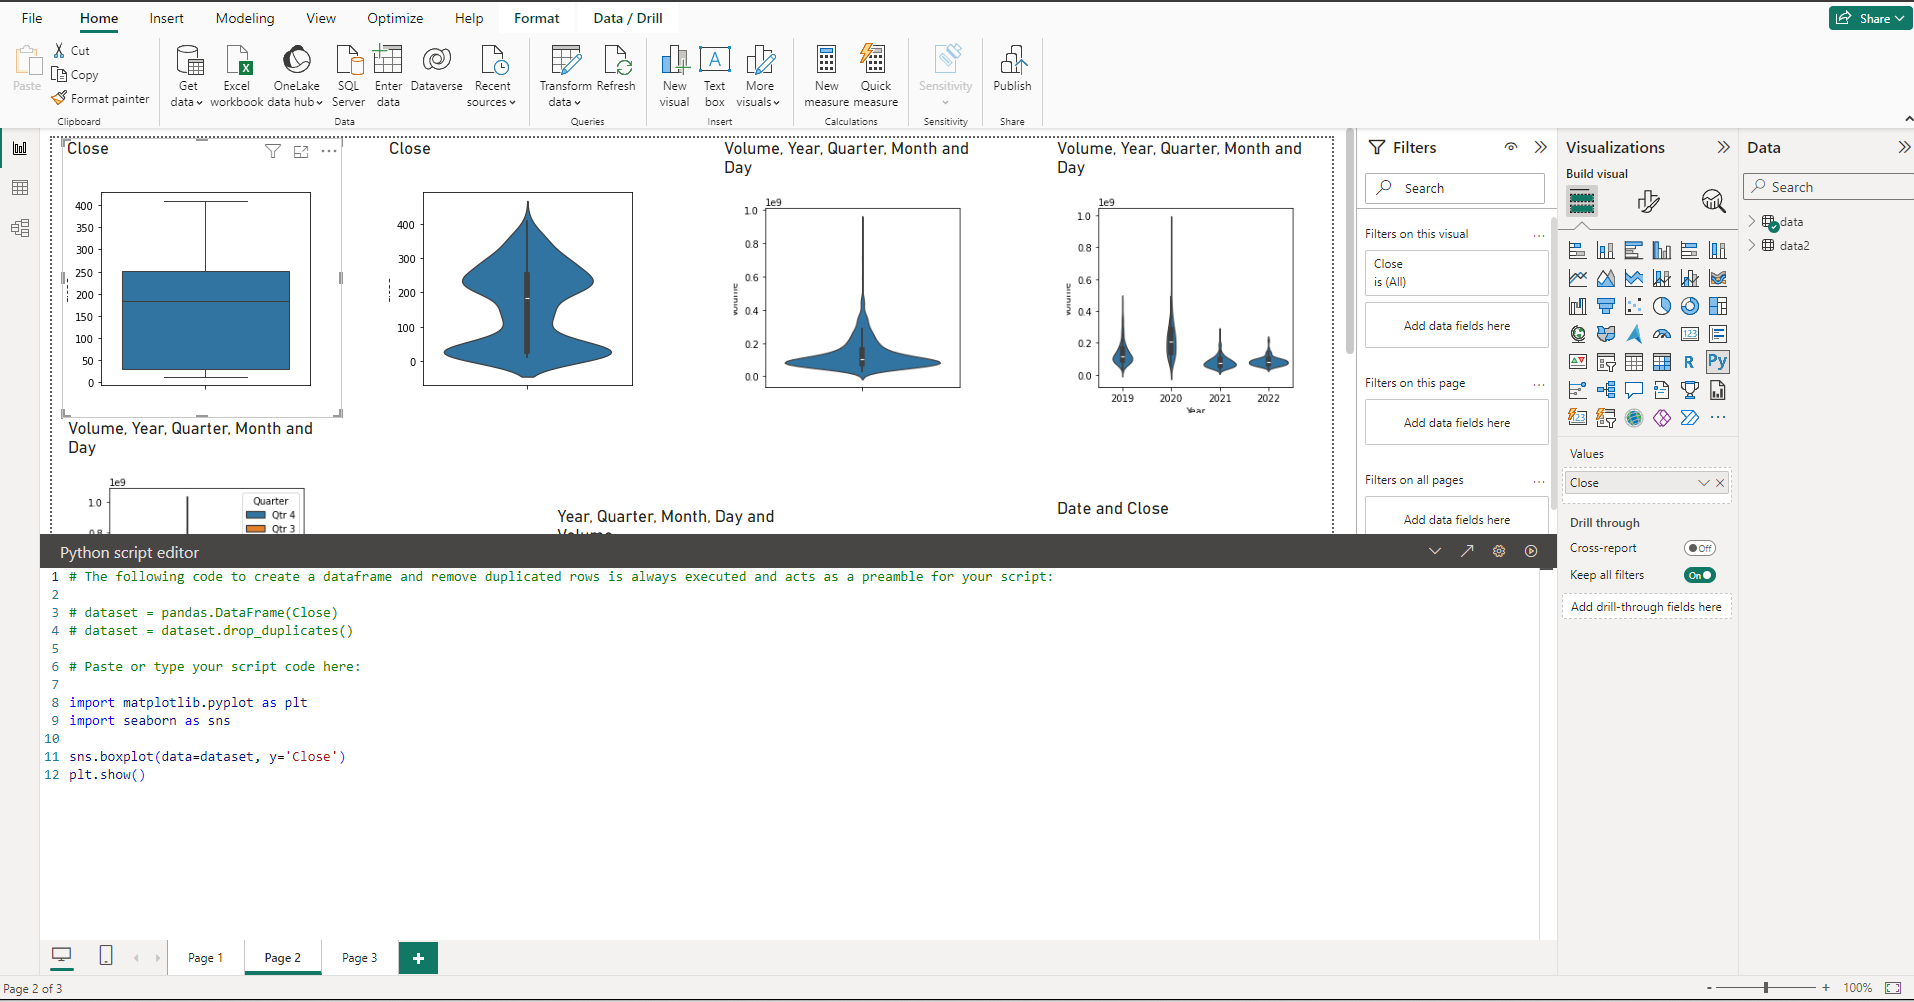

Layout of this report page (visuals, bound fields, positions):
{"tool":"powerbi","page":{"name":"Page 2","canvas":[1280,720],"ordinal":1},"visuals":[{"type":"pythonVisual","fields":{"Values":["data.Close"]},"box":[10,0,280,280],"z":0},{"type":"pythonVisual","fields":{"Values":["data.Close"]},"box":[332,0,280,280],"z":1000},{"type":"pythonVisual","fields":{"Values":["data.Volume","data.Date.Variation.Date Hierarchy.Year","data.Date.Variation.Date Hierarchy.Quarter","data.Date.Variation.Date Hierarchy.Month","data.Date.Variation.Date Hierarchy.Day"]},"box":[667,0,280,280],"z":2000},{"type":"pythonVisual","fields":{"Values":["data.Volume","data.Date.Variation.Date Hierarchy.Year","data.Date.Variation.Date Hierarchy.Quarter","data.Date.Variation.Date Hierarchy.Month","data.Date.Variation.Date Hierarchy.Day"]},"box":[1000,0,280,280],"z":3000},{"type":"pythonVisual","fields":{"Values":["data.Volume","data.Date.Variation.Date Hierarchy.Year","data.Date.Variation.Date Hierarchy.Quarter","data.Date.Variation.Date Hierarchy.Month","data.Date.Variation.Date Hierarchy.Day"]},"box":[10.5,280,280,280],"z":4000},{"type":"pythonVisual","fields":{"Values":["data.Date.Variation.Date Hierarchy.Year","data.Date.Variation.Date Hierarchy.Quarter","data.Date.Variation.Date Hierarchy.Month","data.Date.Variation.Date Hierarchy.Day","data.Volume"]},"box":[500,368,280,149],"z":5000},{"type":"pythonVisual","fields":{"Values":["data.Date","data.Close"]},"box":[1000,360,280,149],"z":6000}]}

Visuals, with their boxes on the page's 1280x720 design canvas (x1, y1, x2, y2). These are canvas units, not pixel positions in the 1914x1002 screenshot, which may show the page scaled, cropped or inside an application window:
pythonVisual - data.Close: <box>10,0,290,280</box>
pythonVisual - data.Close: <box>332,0,612,280</box>
pythonVisual - data.Volume x data.Date.Variation.Date Hierarchy.Year: <box>667,0,947,280</box>
pythonVisual - data.Volume x data.Date.Variation.Date Hierarchy.Year: <box>1000,0,1280,280</box>
pythonVisual - data.Volume x data.Date.Variation.Date Hierarchy.Year: <box>10,280,290,560</box>
pythonVisual - data.Date.Variation.Date Hierarchy.Year x data.Date.Variation.Date Hierarchy.Quarter: <box>500,368,780,517</box>
pythonVisual - data.Date x data.Close: <box>1000,360,1280,509</box>
